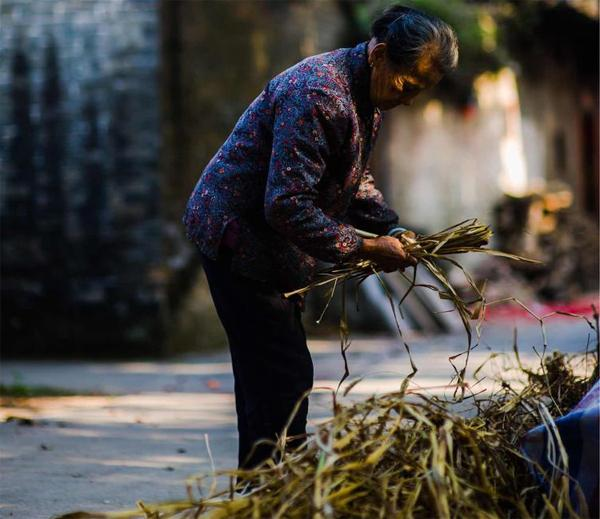bending: (175, 5, 466, 482)
